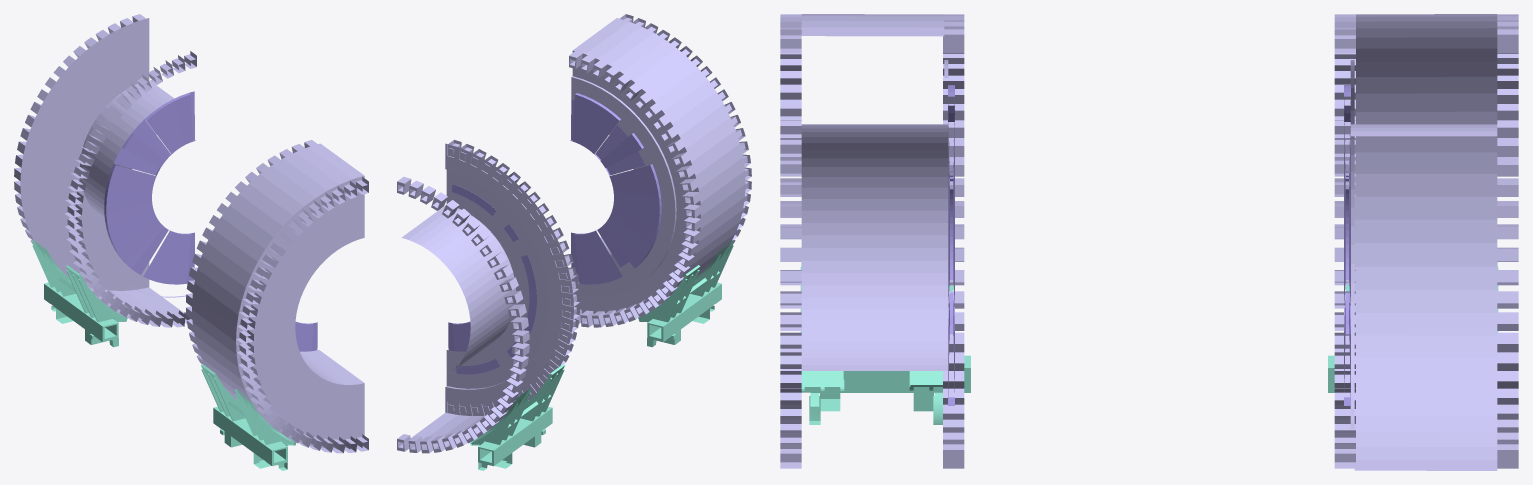
The model's file is calorimeter-tile-endcap-cut-2.glb.
3 renders of one model, left to right at view 1: azimuth 30°, elevation 25°; view 2: azimuth 150°, elevation 25°; view 3: azimuth 270°, elevation 25°, orthographic. The views are drawn at different scales.
Visible parts, largest first — view 1: Mesh_0.001, Mesh_0.002, Mesh_2.004, Mesh_1.004, Mesh_1.003, Mesh_2.001; view 2: Mesh_0.001, Mesh_0.002, Mesh_2.001, Mesh_1.004, Mesh_1.003, Mesh_2.004; view 3: Mesh_0.002, Mesh_0.001, Mesh_1.003, Mesh_2.004, Mesh_2.001.
Part boxes in pixels (x1=…): Mesh_0.001: x1=186, y1=140, x2=368, y2=453; Mesh_0.002: x1=14, y1=14, x2=196, y2=327; Mesh_2.004: x1=104, y1=91, x2=195, y2=284; Mesh_1.004: x1=32, y1=240, x2=127, y2=347; Mesh_1.003: x1=201, y1=364, x2=295, y2=470; Mesh_2.001: x1=295, y1=321, x2=317, y2=351; Mesh_0.001: x1=569, y1=14, x2=751, y2=327; Mesh_0.002: x1=397, y1=140, x2=579, y2=453; Mesh_2.001: x1=570, y1=93, x2=661, y2=284; Mesh_1.004: x1=470, y1=364, x2=564, y2=470; Mesh_1.003: x1=638, y1=240, x2=733, y2=347; Mesh_2.004: x1=448, y1=184, x2=536, y2=374; Mesh_0.002: x1=1334, y1=14, x2=1518, y2=470; Mesh_0.001: x1=780, y1=14, x2=964, y2=468; Mesh_1.003: x1=800, y1=262, x2=970, y2=424; Mesh_2.004: x1=1344, y1=85, x2=1350, y2=405; Mesh_2.001: x1=948, y1=85, x2=954, y2=405.
Bounding box in the file's own units: 4.24 × 8.73 × 13.05.
